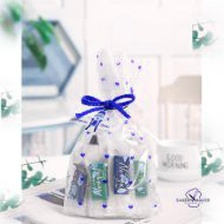snack: (53, 40, 168, 224)
